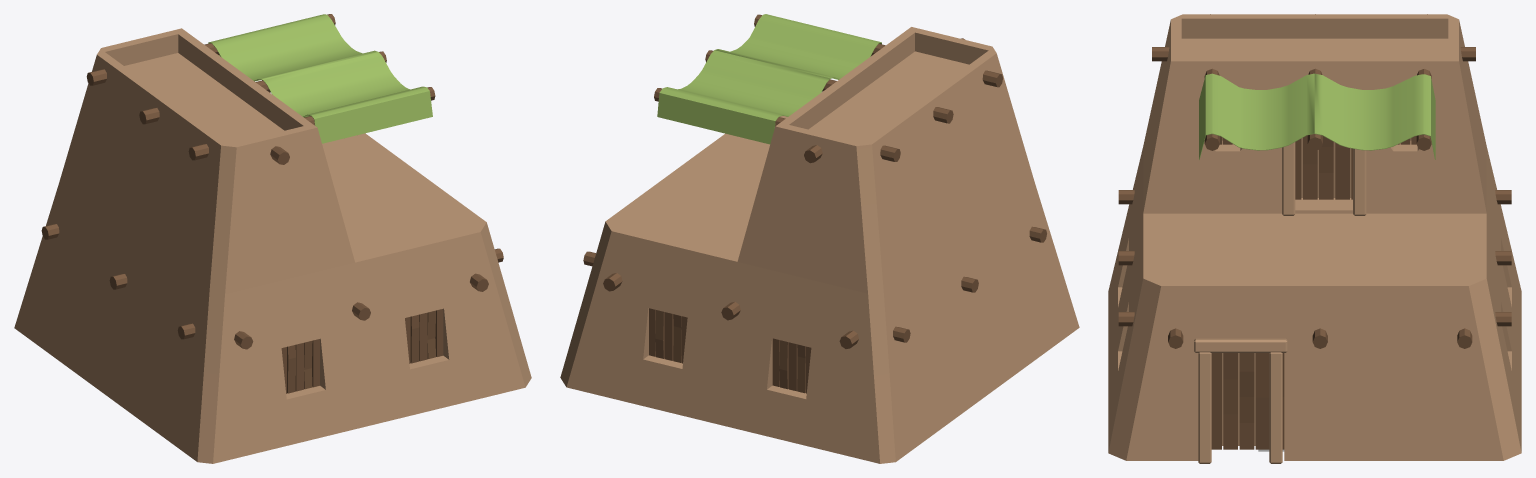
File: house1.fbx
The picture shows the model from 3 angles, left to right: view 1: azimuth 30°, elevation 25°; view 2: azimuth 150°, elevation 25°; view 3: azimuth 270°, elevation 25°; orthographic projection. The views are drawn at different scales.
Visible parts, largest first — view 1: House_1_Base, House_1_Towel_Big_Roof, House_1_Windows, House_1_Beams_Area; view 2: House_1_Base, House_1_Towel_Big_Roof, House_1_Windows, House_1_Beams_Area; view 3: House_1_Base, House_1_Towel_Big_Roof, House_1_Door, House_1_Door_Platband, House_1_Door.001, House_1_Beams_Area, House_1_Door_Platband.001, House_1_Beams_Towel..
Boxes of the visible parts, left/top/right/bottom form: House_1_Base: left=14, top=28, right=531, bottom=463; House_1_Towel_Big_Roof: left=208, top=14, right=432, bottom=143; House_1_Windows: left=281, top=309, right=443, bottom=393; House_1_Beams_Area: left=41, top=69, right=503, bottom=349; House_1_Base: left=560, top=27, right=1079, bottom=463; House_1_Towel_Big_Roof: left=657, top=14, right=881, bottom=144; House_1_Windows: left=649, top=308, right=811, bottom=393; House_1_Beams_Area: left=583, top=38, right=1046, bottom=348; House_1_Base: left=1108, top=14, right=1521, bottom=460; House_1_Towel_Big_Roof: left=1199, top=73, right=1435, bottom=159; House_1_Door: left=1211, top=353, right=1284, bottom=449; House_1_Door_Platband: left=1194, top=338, right=1287, bottom=463; House_1_Door.001: left=1295, top=135, right=1352, bottom=199; House_1_Beams_Area: left=1118, top=14, right=1511, bottom=348; House_1_Door_Platband.001: left=1282, top=142, right=1366, bottom=215; House_1_Beams_Towel.: left=1204, top=68, right=1431, bottom=150.
Size of the model in its own units: 735 by 678 by 722.
